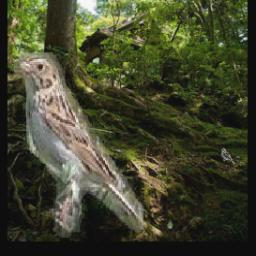Sparrow: (14, 53, 143, 239), (220, 148, 235, 165)
